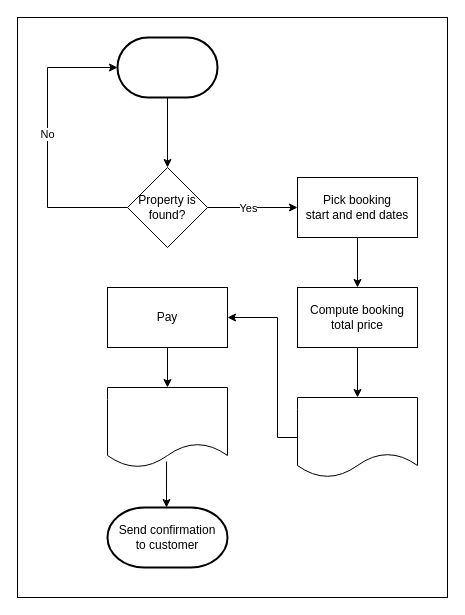
This 465x615 diagram has some shape labels left out. Here are the shapes that lost their labels. From the top down, the centre of each, then its label:
At pixel 167 67: "User search for a property".
At pixel 167 427: "Create booking confirmation".
At pixel 357 437: "Create booking order".
